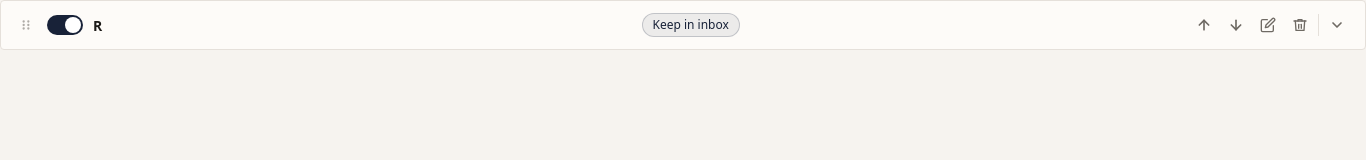
summarize helpers › Duplicate with seconds window
The image size is (1366, 160).
Click the button titled "Expand" at (1337, 25), box [1323,11,1351,39]
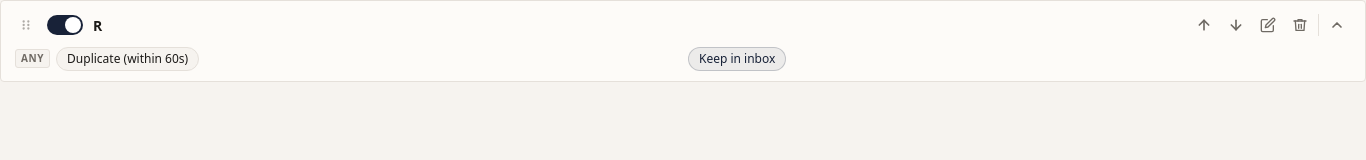
Check: the text "Duplicate (within 60s)" is shown, box [56,47,199,71]
